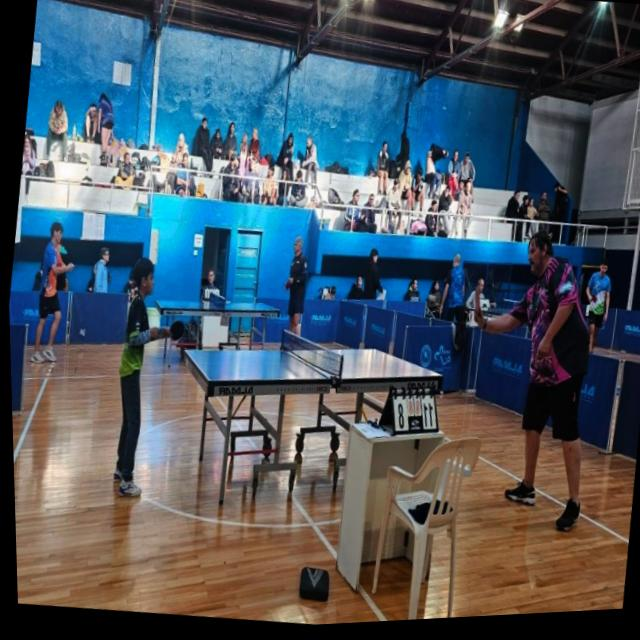TT Net: (280, 327, 343, 381), (501, 298, 533, 315), (208, 290, 226, 313)
TT Racket: (167, 319, 185, 341), (473, 285, 482, 316), (283, 278, 291, 292), (590, 293, 597, 304), (55, 261, 63, 267)
TT Table: (183, 348, 441, 381), (156, 300, 279, 309), (467, 304, 547, 317)
